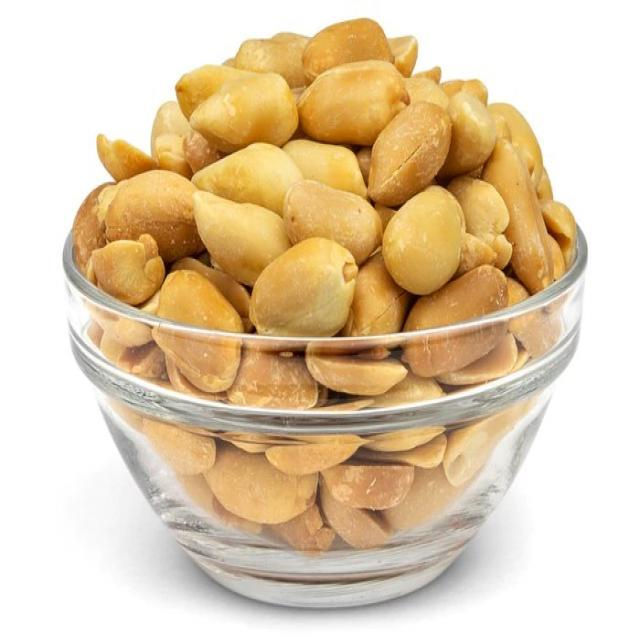Frutta secca: (63, 11, 587, 371)
